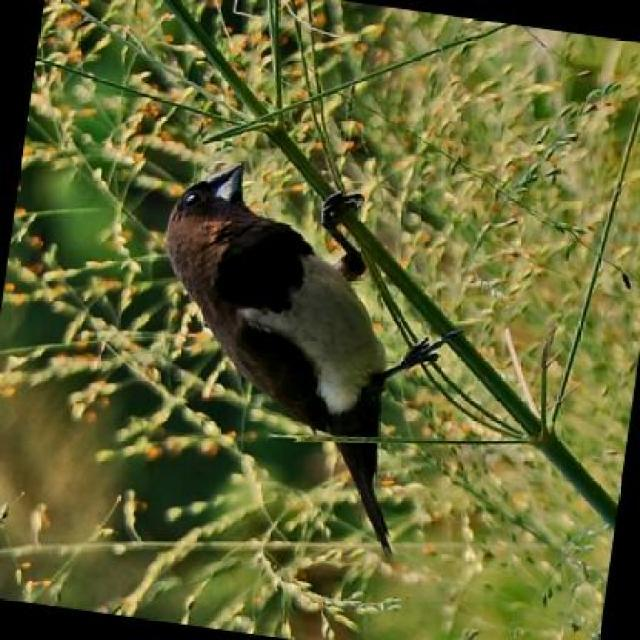Bird: (160, 160, 440, 565)
